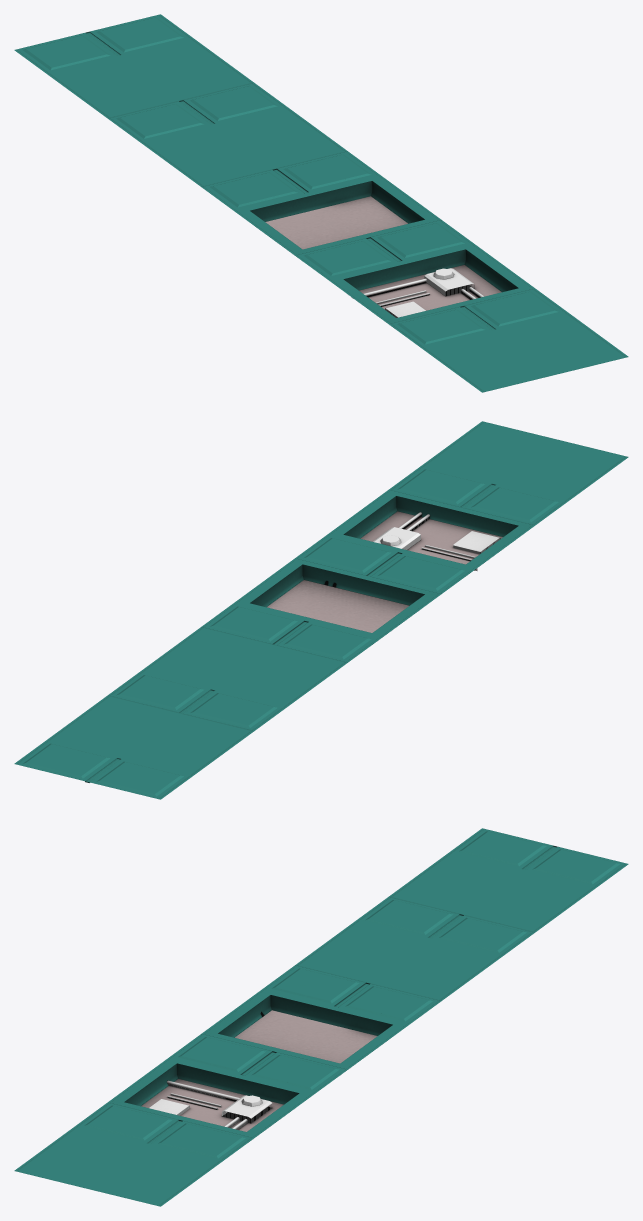
File: sc_lvl1_floortile_03.FBX
The picture shows the model from 3 angles, top to bottom: view 1: azimuth 30°, elevation 25°; view 2: azimuth 150°, elevation 25°; view 3: azimuth 330°, elevation 25°; orthographic projection.
Parts seen in each view (by area): view 1: sc_lvl1_floortile_03; view 2: sc_lvl1_floortile_03; view 3: sc_lvl1_floortile_03.
Part boxes in pixels (x1,y1,x2,y2): sc_lvl1_floortile_03: (14,14,628,392); sc_lvl1_floortile_03: (14,421,628,799); sc_lvl1_floortile_03: (14,828,628,1206).
Bounding box in the file's own units: 18.1 × 1.79 × 100.
